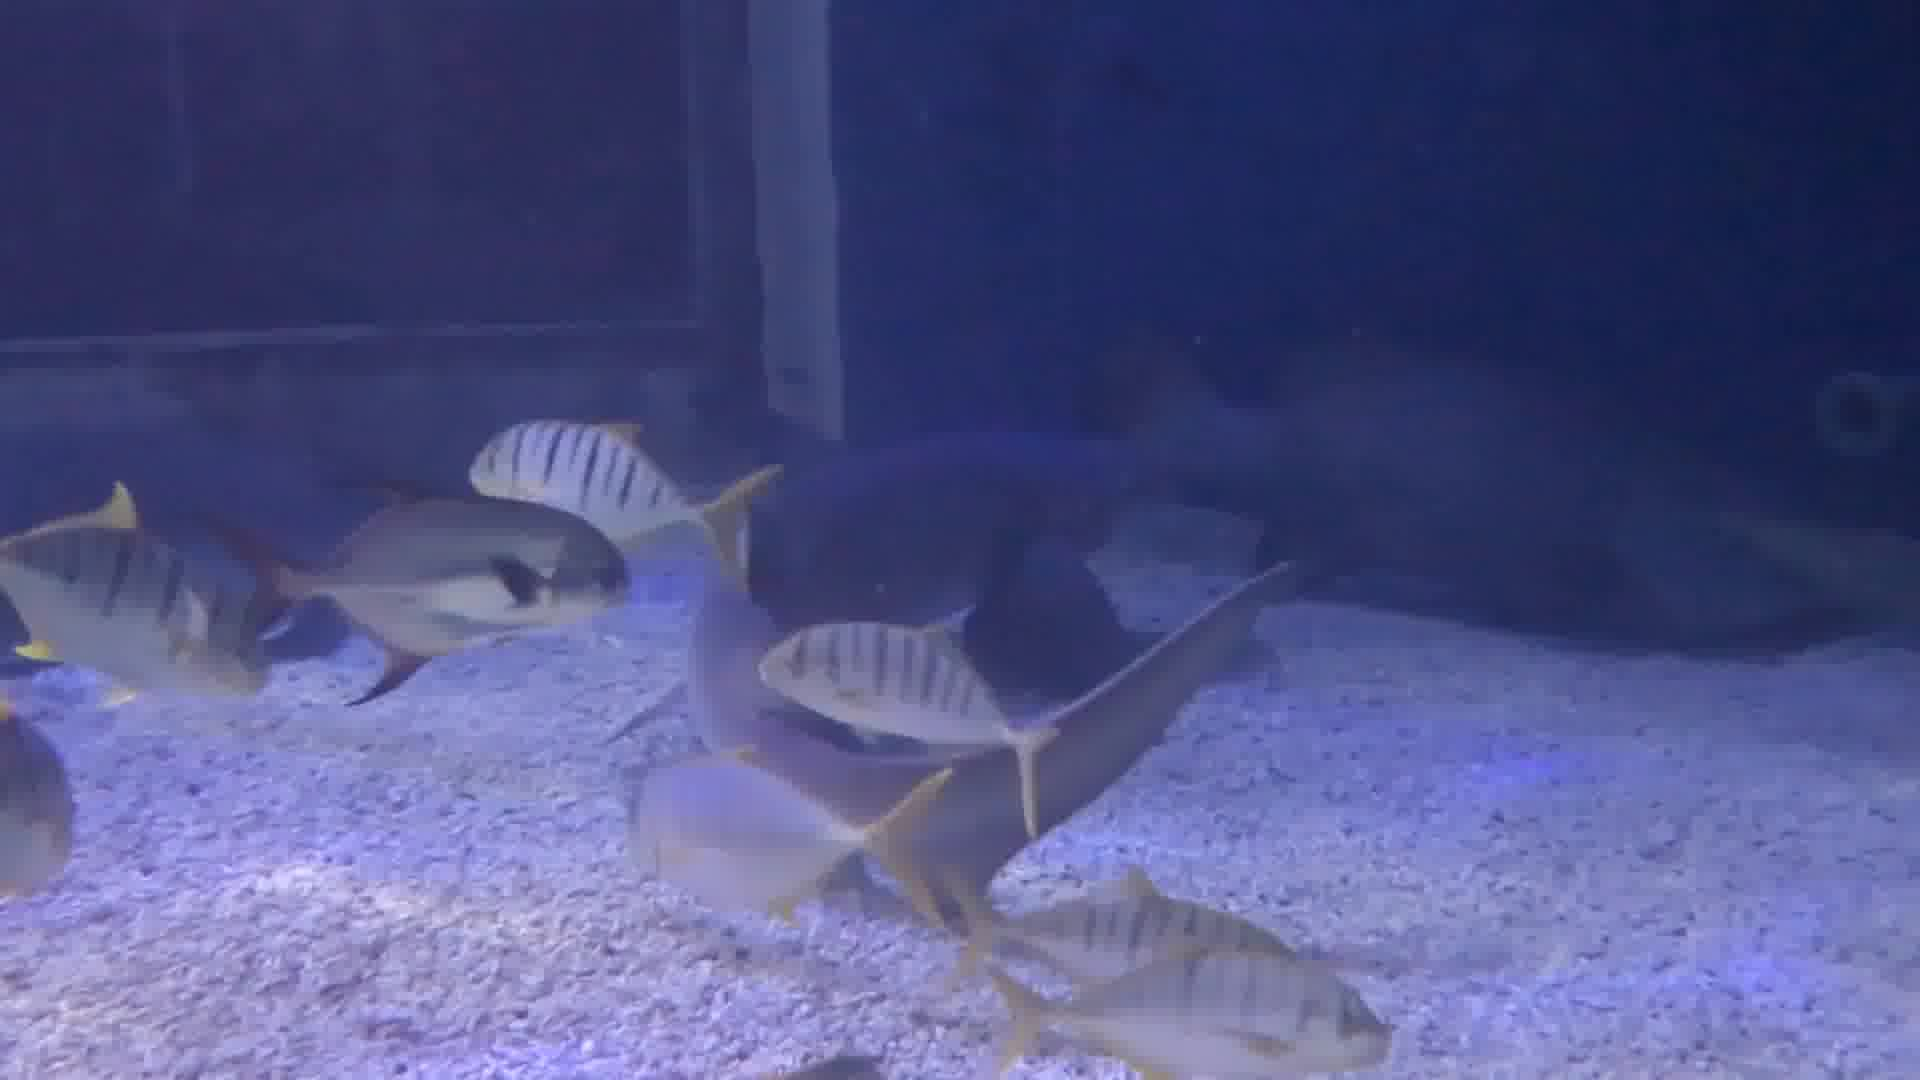Nebrius ferrugineus: (740, 392, 1215, 673)
